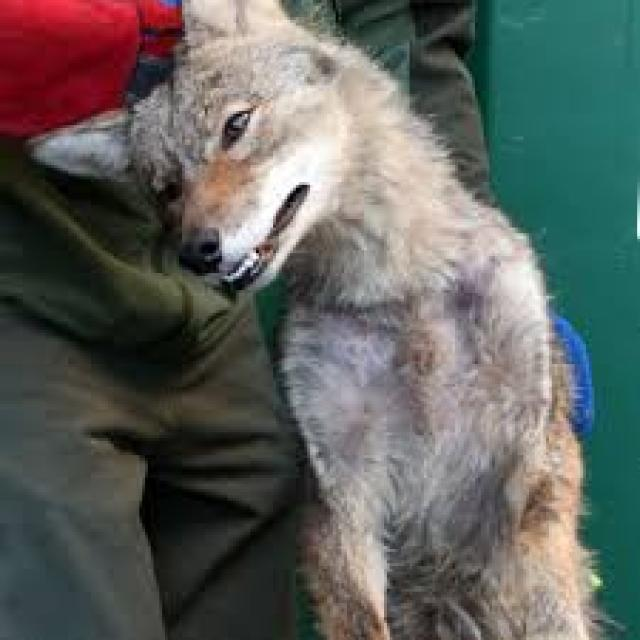Coyote: (36, 2, 614, 640)
